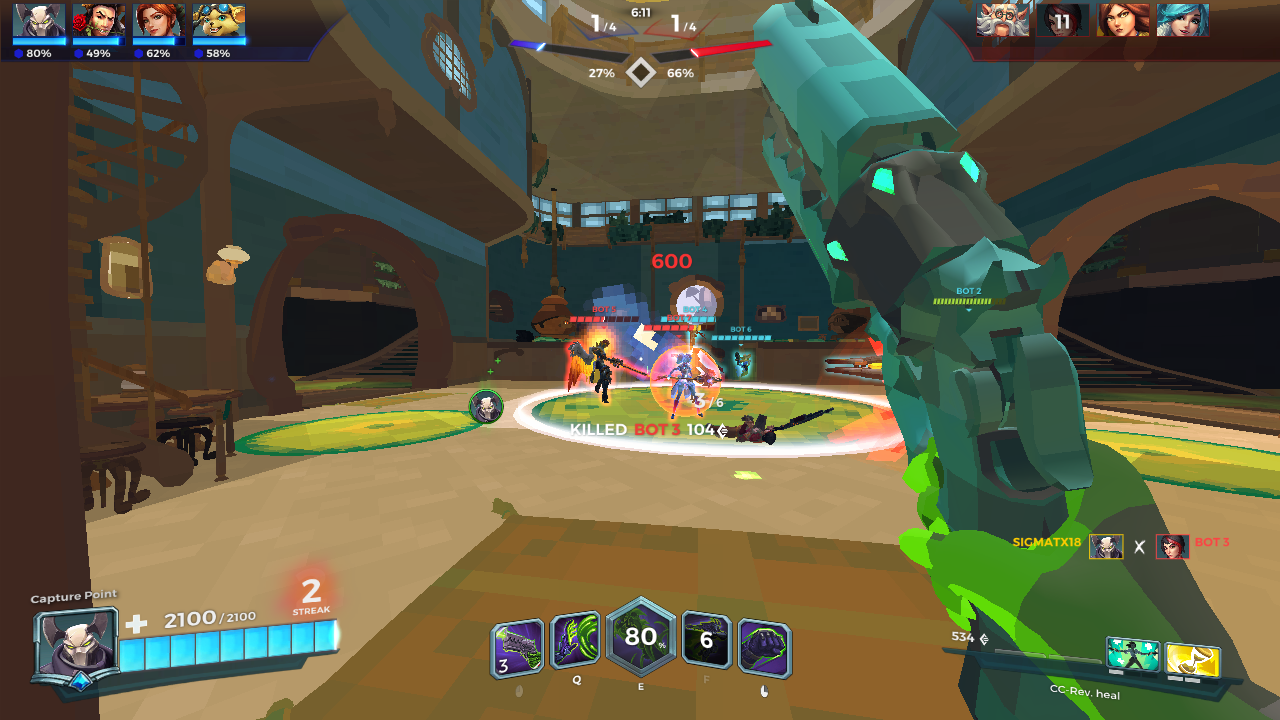model: (650, 350, 727, 422), (560, 328, 628, 406)
